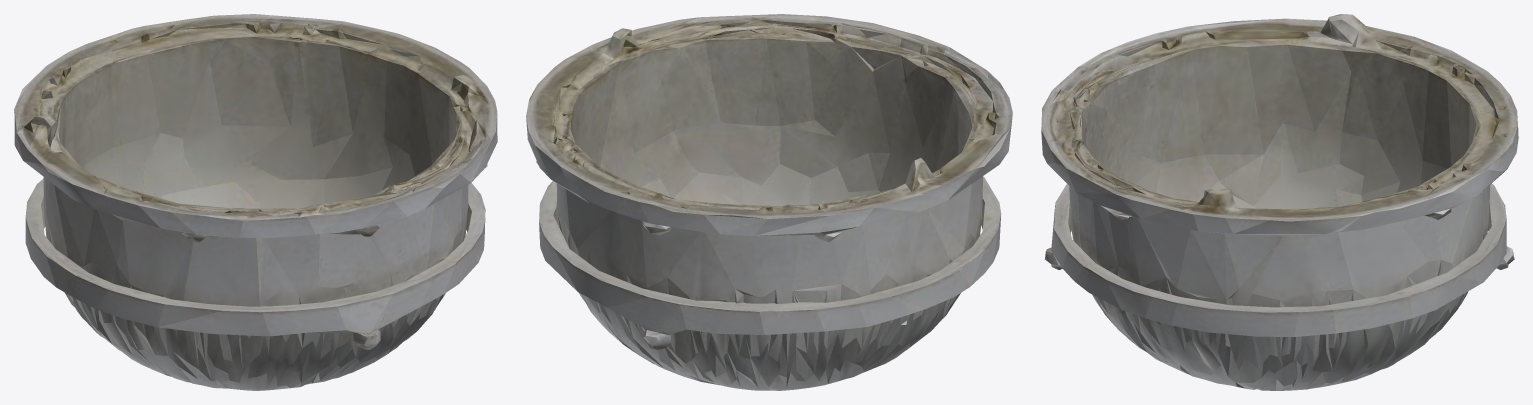
The model's file is w5walklight.glb.
3 renders of one model, left to right at view 1: azimuth 30°, elevation 25°; view 2: azimuth 150°, elevation 25°; view 3: azimuth 270°, elevation 25°, orthographic.
Parts seen in each view (by area): view 1: output_unwrapped; view 2: output_unwrapped; view 3: output_unwrapped.
Boxes of the visible parts, bbox=[...] form: output_unwrapped: bbox=[14, 14, 497, 390]; output_unwrapped: bbox=[526, 14, 1012, 390]; output_unwrapped: bbox=[1041, 14, 1518, 390].
Size of the model in its own units: 0.28 by 0.1677 by 0.2788.
1 material, 1 textured.
